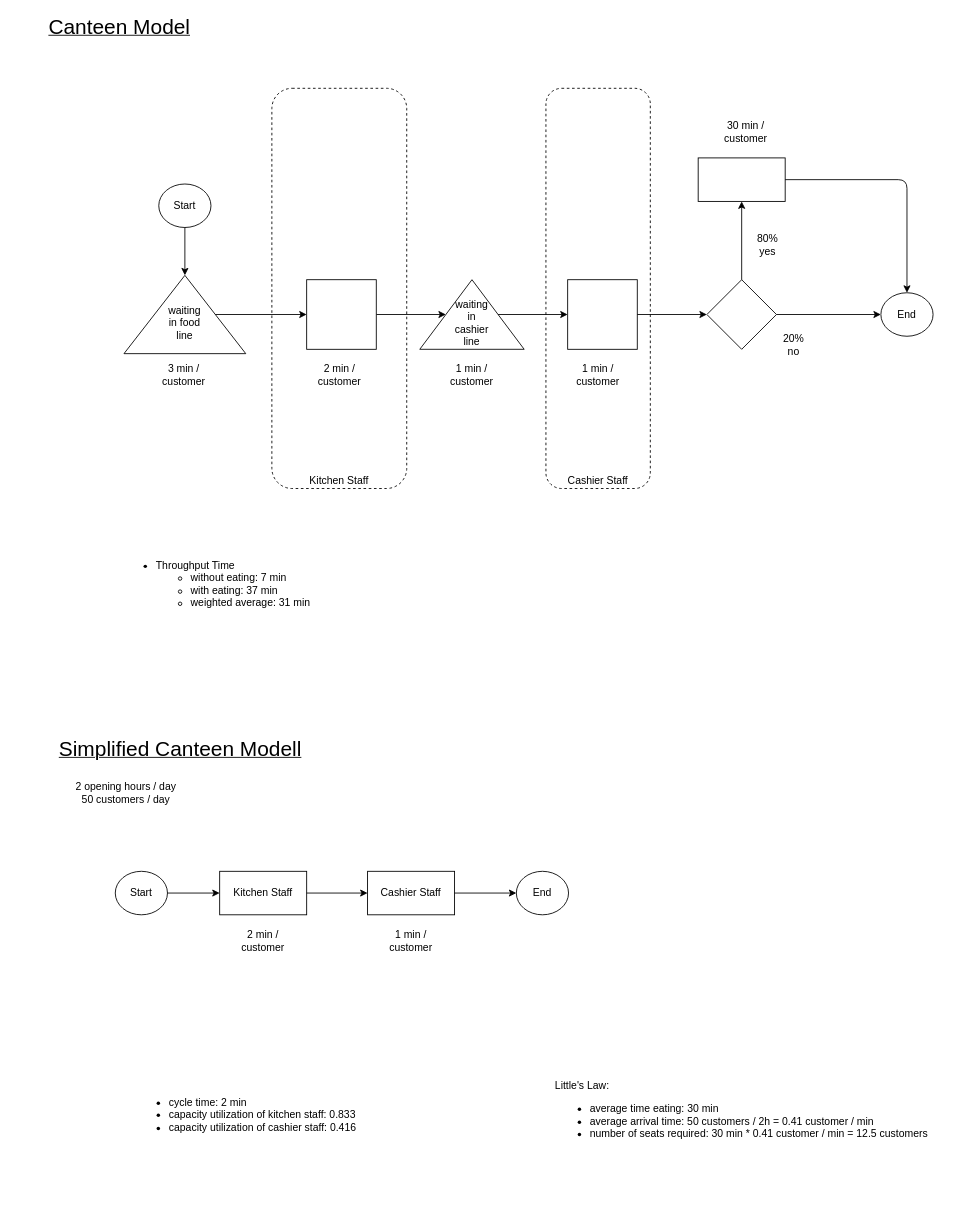
Some shapes in this 960 by 1217 pixel diagram are drawn without their labels. The centre of each missing label's shape, as x and y in pixels:
"Eat" goes at pixel 741 179.
"eat on premise?" goes at pixel 741 314.
"Order & Pick up Food" goes at pixel 341 314.
"Pay" goes at pixel 602 314.
